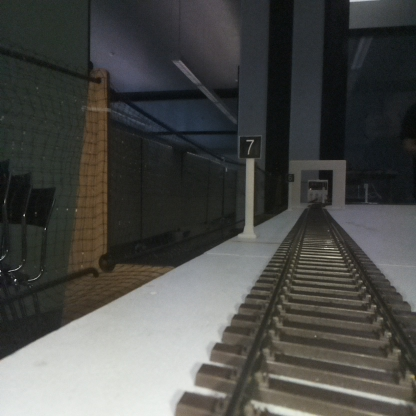black-info-7: (239, 135, 260, 240)
